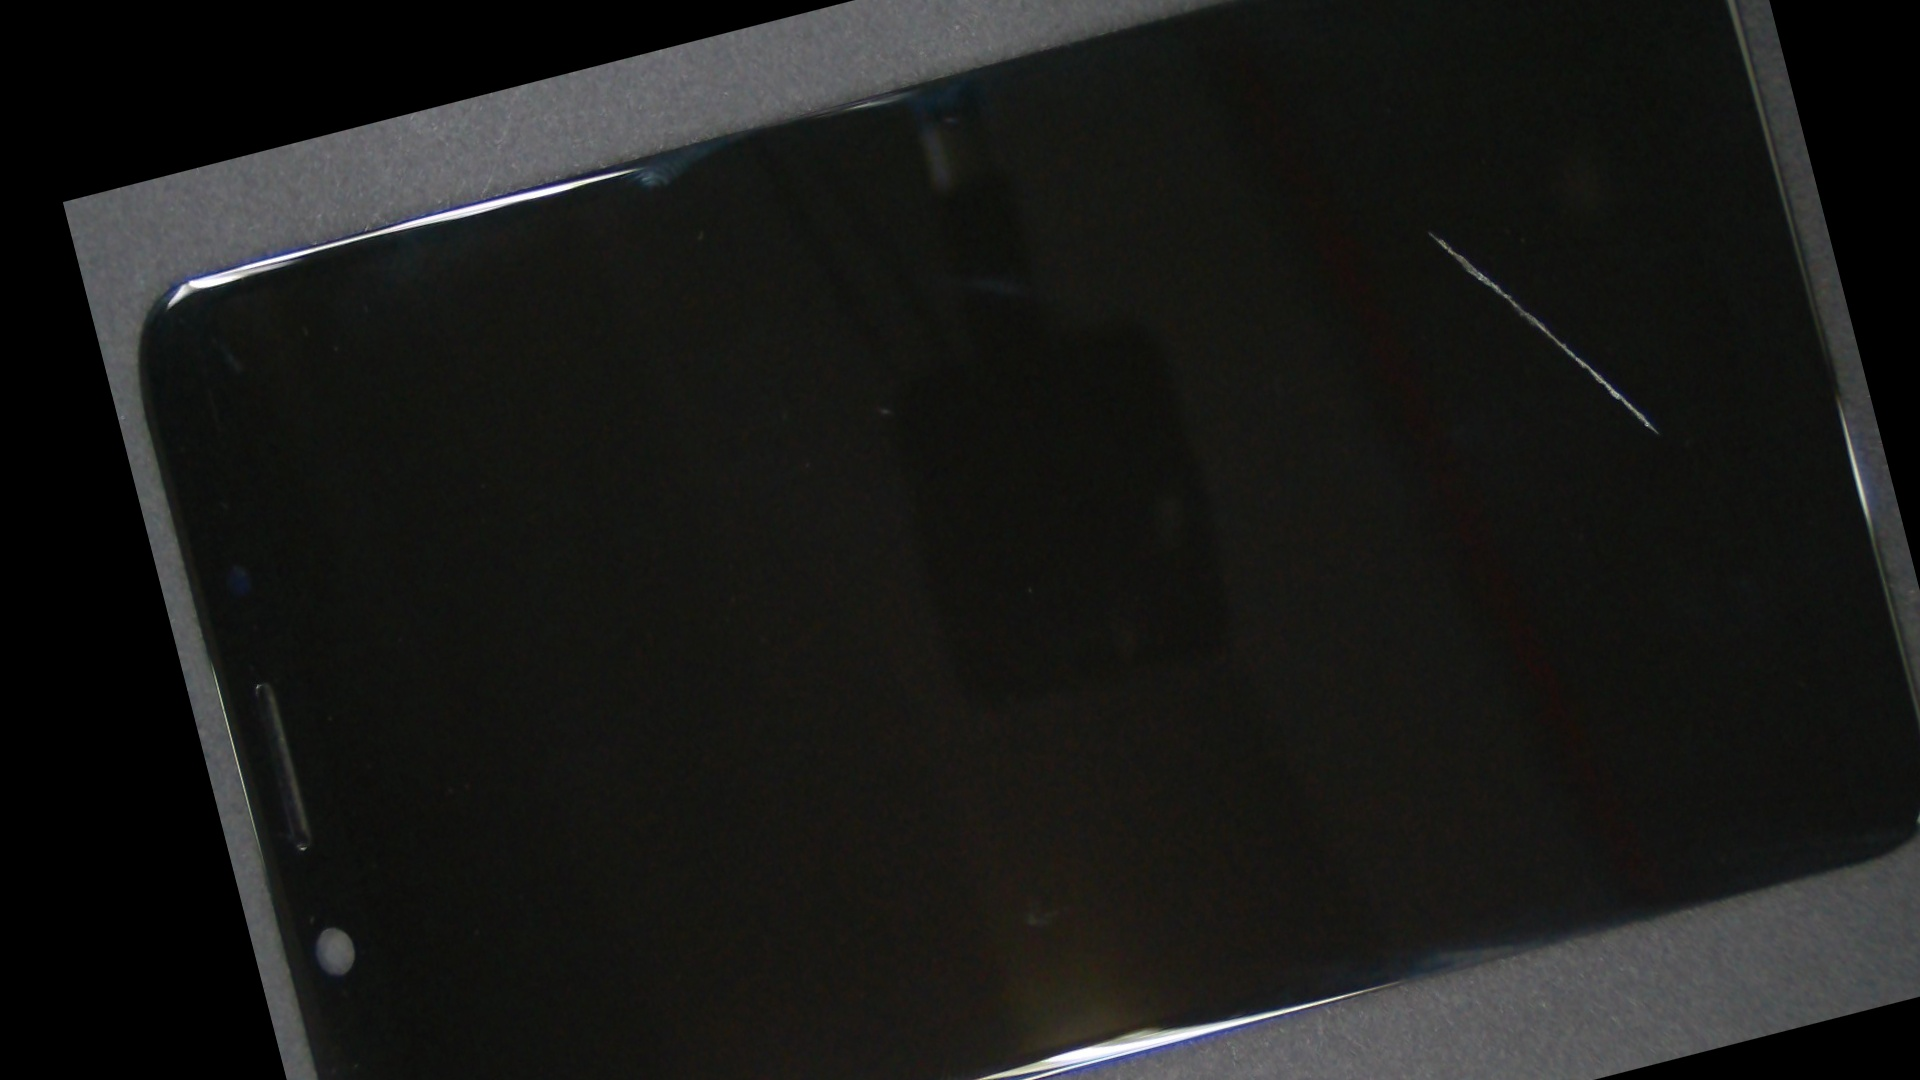oil: (745, 0, 1850, 574)
